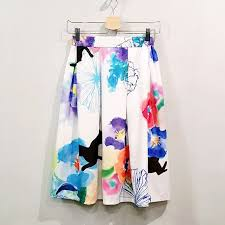C_skirt: (43, 32, 174, 217)
